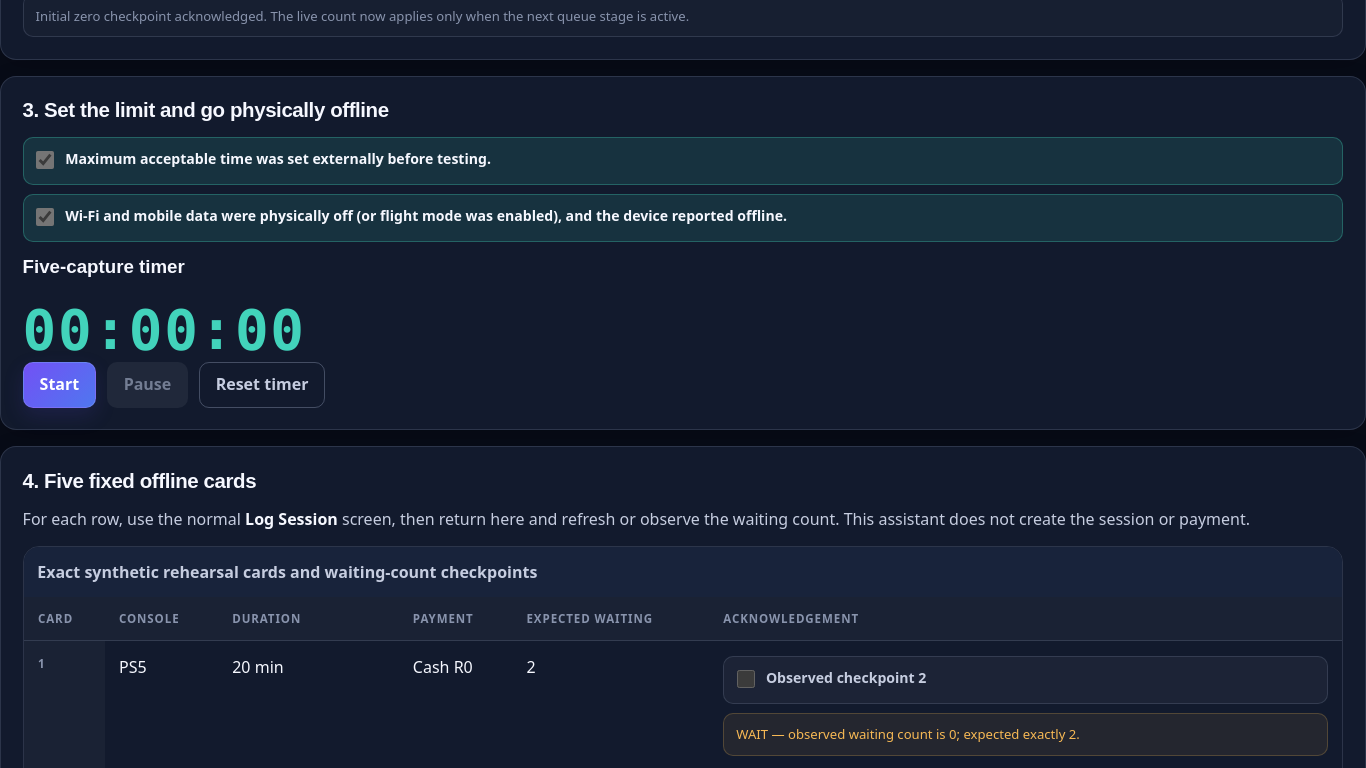
Test: FieldAcceptanceRehearsal › starts, pauses, and resets the visual-only local timer after offline preparation
The width and height of the screenshot is (1366, 768).
(page scrolled)
Expected: the text named "Elapsed rehearsal time" reads "00:00:00", [23,297,306,362]
Step 1. Click the button "Start" → (59, 385), box [23,362,96,408]
Wait 1500 ms
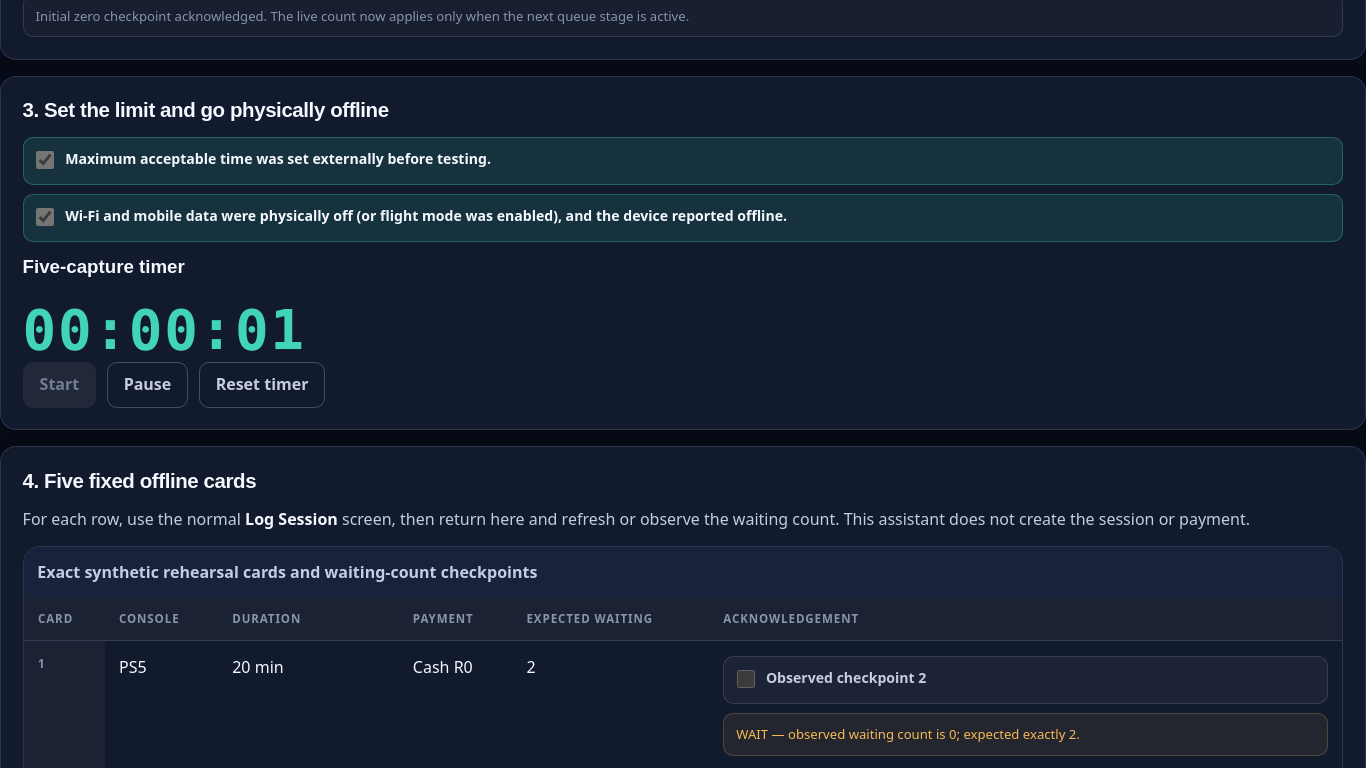
Now the text named "Elapsed rehearsal time" reads "00:00:01", box [23,297,306,362]
Step 2. Click the button "Pause" → (147, 385), box [107,362,188,408]
Wait 2000 ms
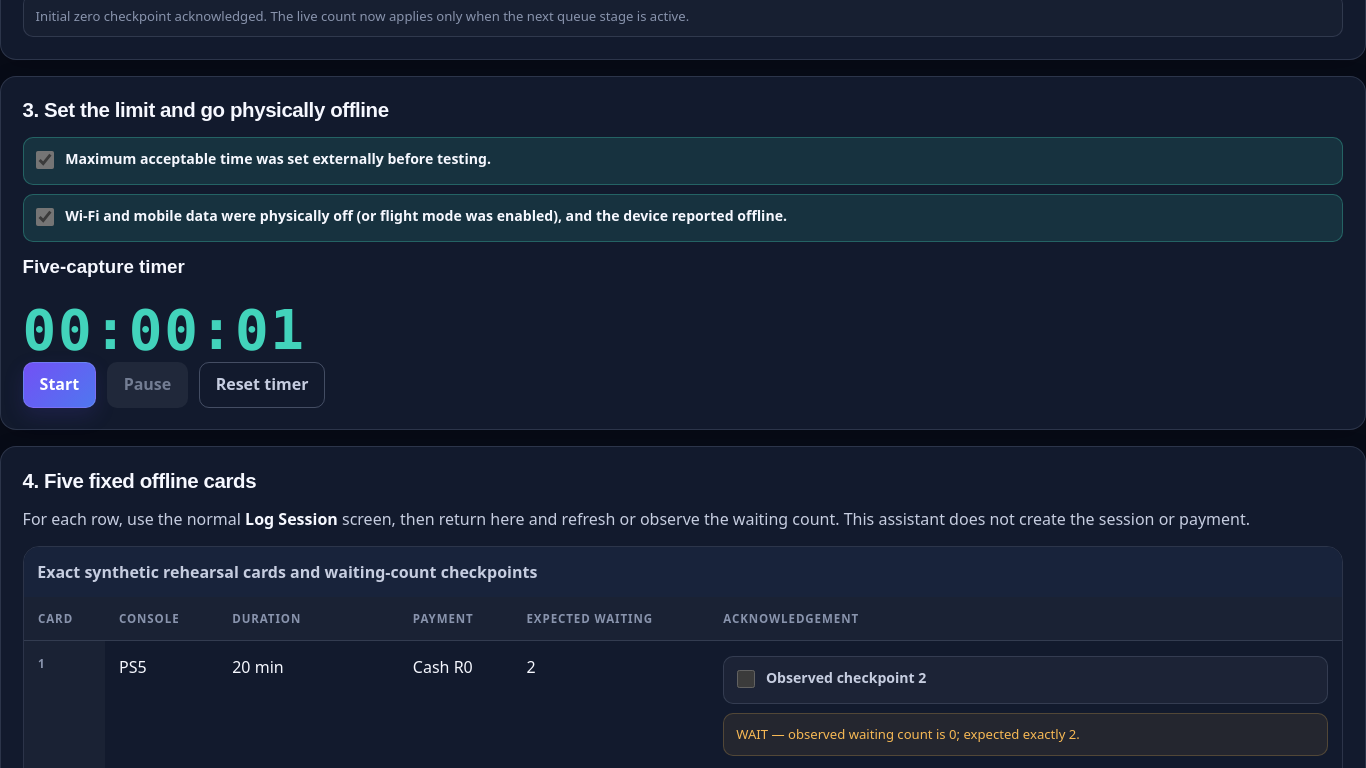
Now the text named "Elapsed rehearsal time" reads "00:00:01", box [23,297,306,362]
Step 3. Click the button "Reset timer" → (262, 385), box [199,362,326,408]
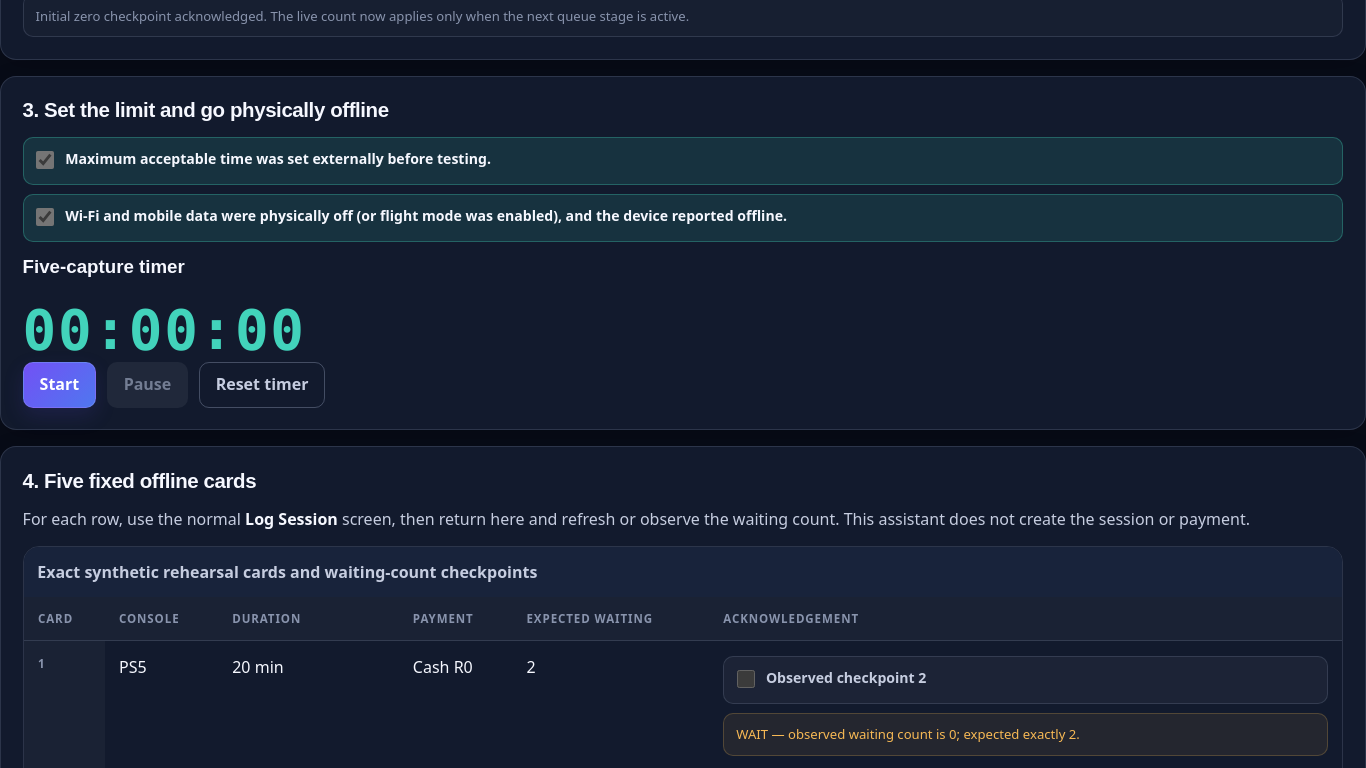
Now the text named "Elapsed rehearsal time" reads "00:00:00", box [23,297,306,362]
